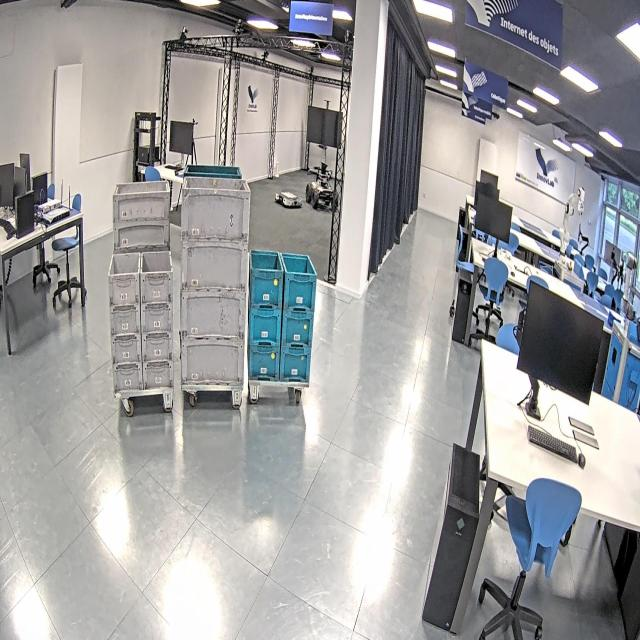Box3G: (112, 177, 172, 372)
Box4G: (180, 175, 251, 386)
Box8G: (107, 248, 174, 394)
BoxB4: (180, 164, 243, 376)
BoxB8: (247, 248, 318, 386)
